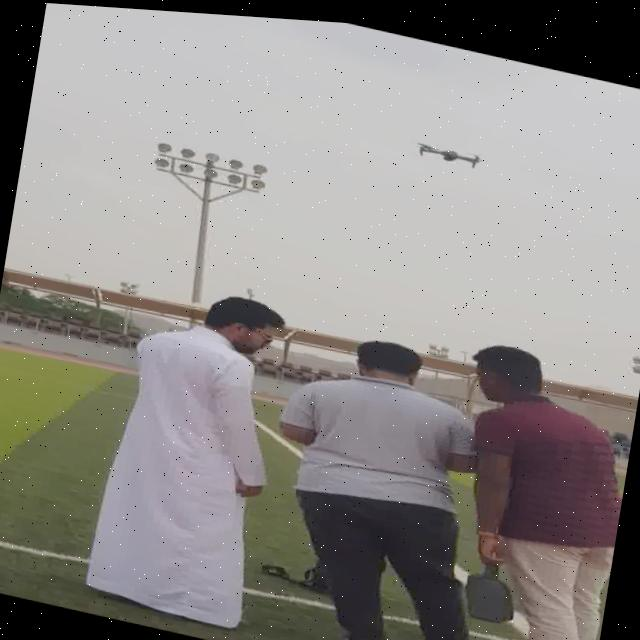drone: (408, 126, 490, 168)
